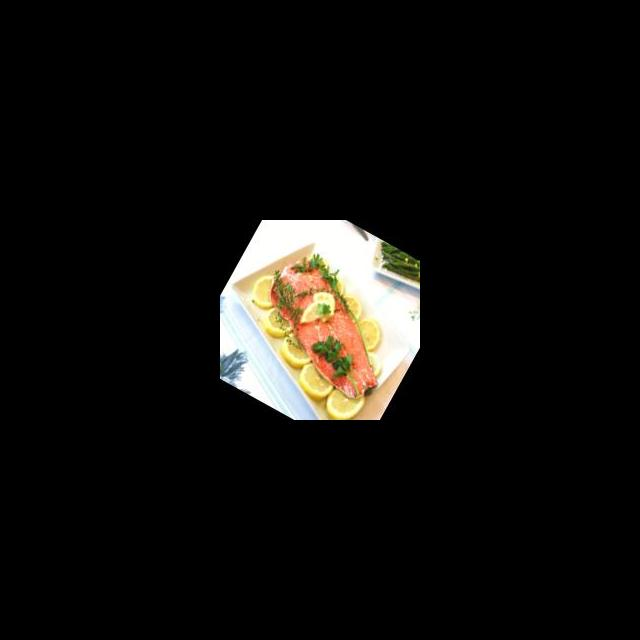ca hoi: (238, 246, 417, 409)
